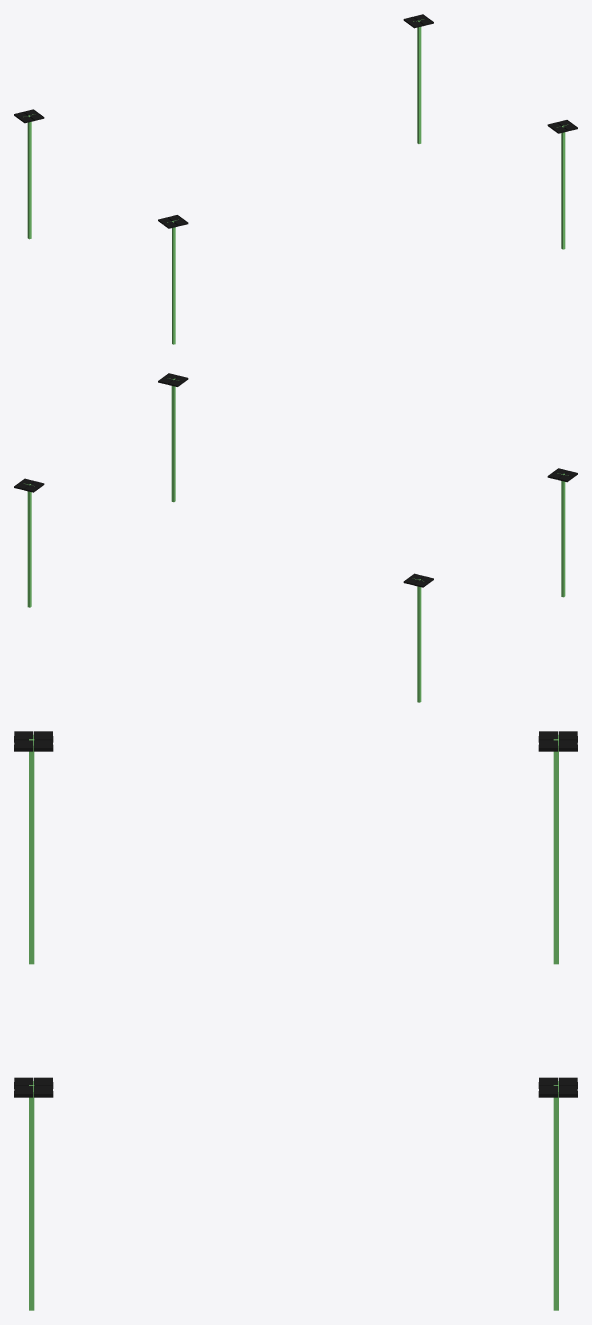
3 renders of one model, top to bottom at view 1: azimuth 30°, elevation 25°; view 2: azimuth 150°, elevation 25°; view 3: azimuth 270°, elevation 25°, orthographic. The views are drawn at different scales.
Visible parts, largest first — view 1: Cube.003; view 2: Cube.003; view 3: Cube.003.
Boxes of the visible parts, box(x1,y1,x2,y2) form: Cube.003: box(14, 14, 577, 344); Cube.003: box(14, 373, 577, 702); Cube.003: box(14, 731, 577, 1310).
Bounding box in the file's own units: 16.66 × 4.77 × 10.92.
